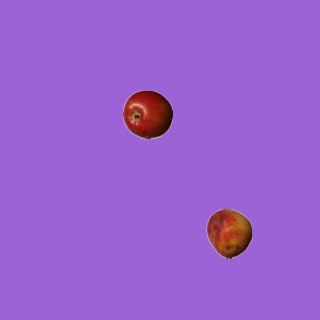Apple Braeburn: (122, 89, 172, 139)
Peach: (204, 208, 254, 258)
